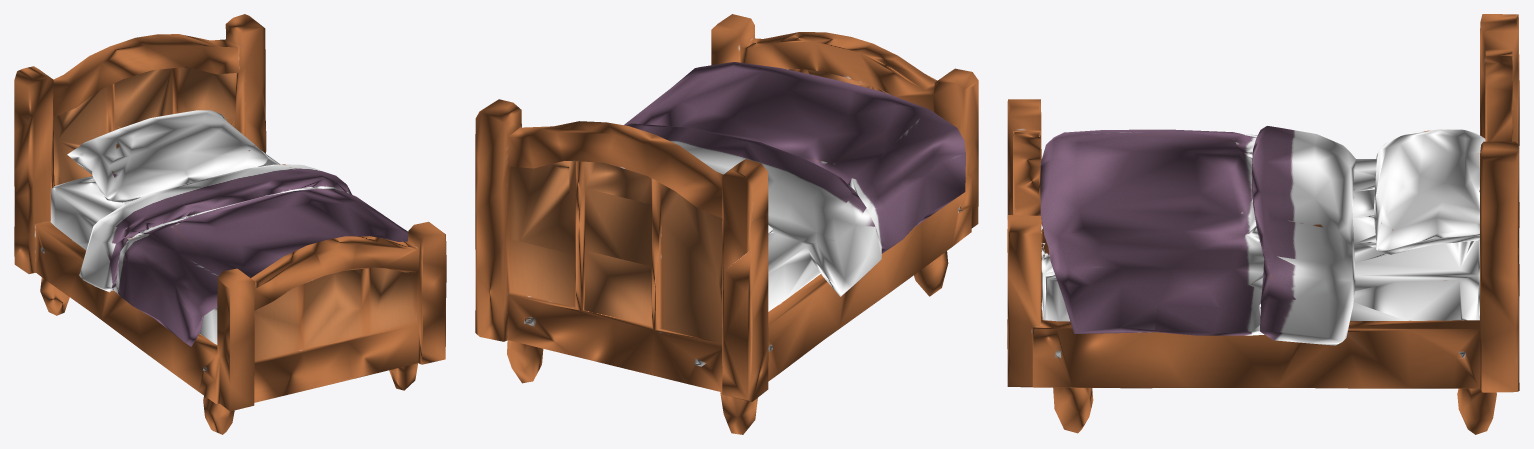
File: bed.glb
The picture shows the model from 3 angles, left to right: view 1: azimuth 30°, elevation 25°; view 2: azimuth 150°, elevation 25°; view 3: azimuth 270°, elevation 25°; orthographic projection. The views are drawn at different scales.
Parts seen in each view (by area): view 1: bdec_2evej9th.glb; view 2: bdec_2evej9th.glb; view 3: bdec_2evej9th.glb.
Boxes of the visible parts, box(x1,y1,x2,y2) form: bdec_2evej9th.glb: box(14, 14, 446, 434); bdec_2evej9th.glb: box(475, 14, 978, 434); bdec_2evej9th.glb: box(1007, 14, 1519, 434).
Size of the model in its own units: 0.726 by 0.6512 by 1.
1 material, 1 textured.
